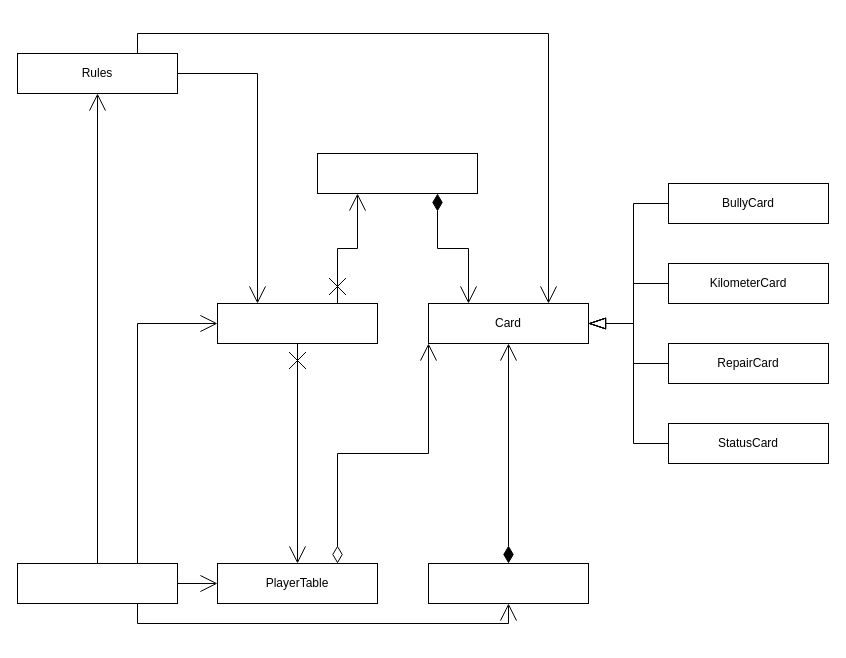
Some shapes in this 846 by 658 pixel diagram are drawn without their labels. Each missing label, with the centre of its shape:
"Game" goes at point (97, 583).
"Hand" goes at point (397, 173).
"Player" goes at point (297, 323).
"Stack" goes at point (508, 583).
